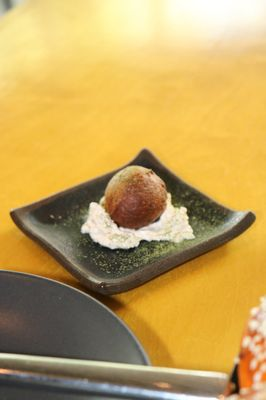sushi: (9, 147, 259, 297)
